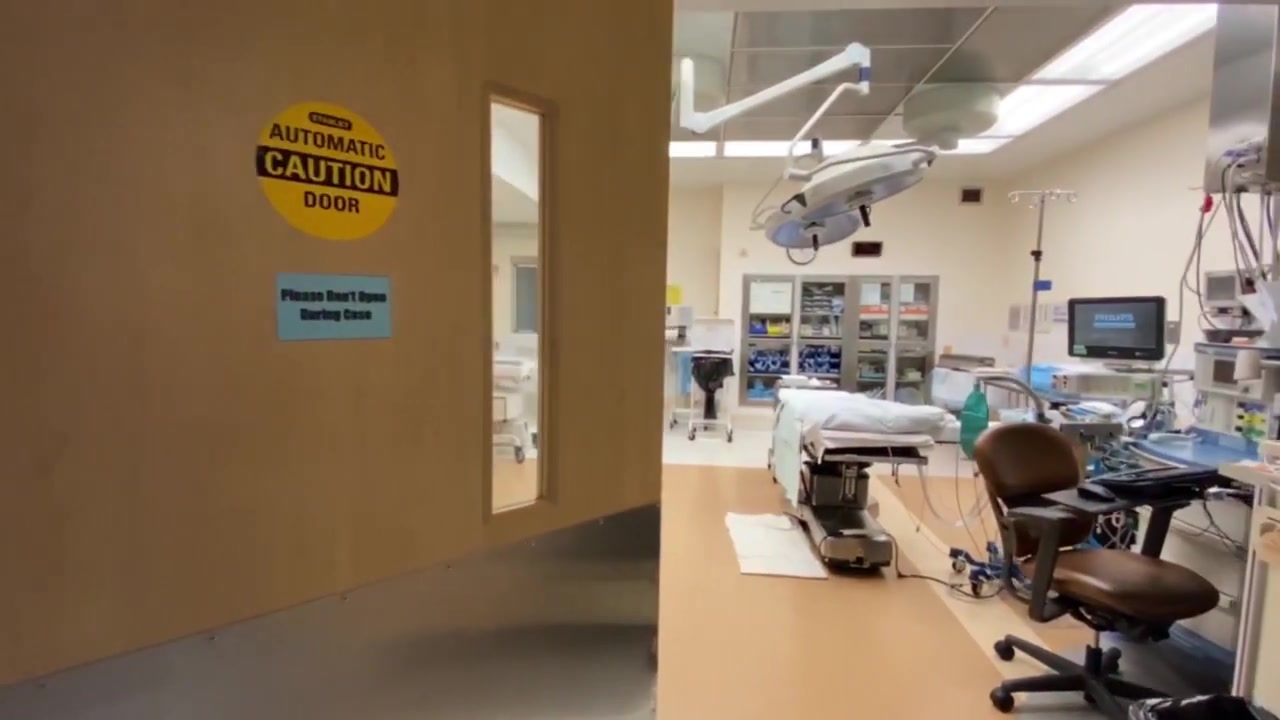bedside_monitor: (1068, 295, 1168, 360), (1200, 269, 1242, 309)
cabinet: (739, 269, 936, 408)
chair: (973, 423, 1221, 711)
iv_pole: (1006, 188, 1077, 405)
mouse: (1078, 484, 1115, 503)
operating_bed: (768, 376, 944, 568)
surgical_light: (780, 146, 938, 221), (763, 210, 861, 249)
waste_bin: (687, 349, 736, 441)
